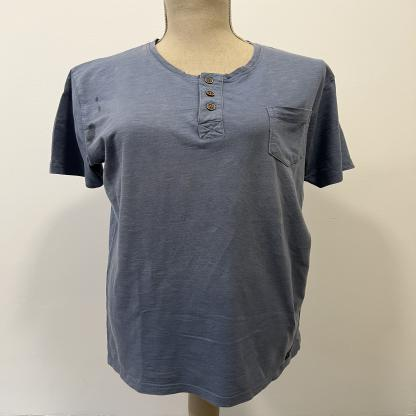stain: (83, 121, 99, 146), (97, 103, 102, 115), (94, 95, 100, 103)
